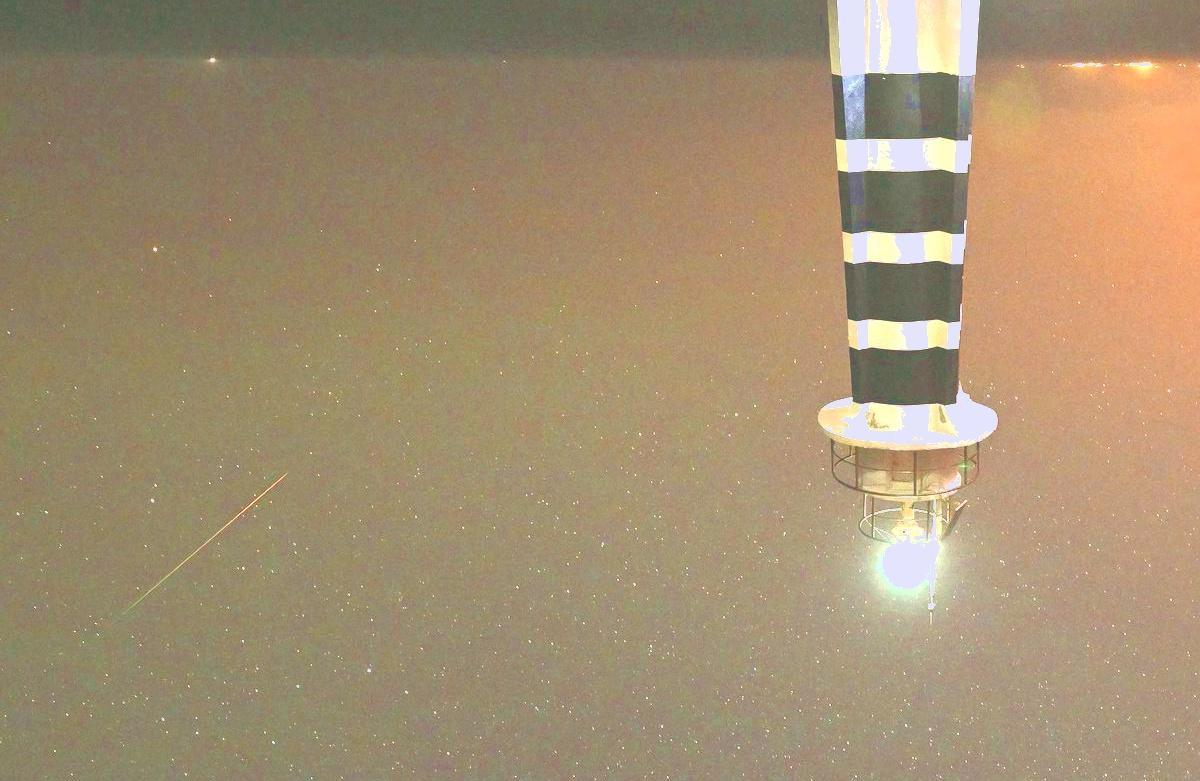meteorite: (122, 460, 301, 617)
